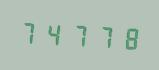eight: (114, 21, 137, 53)
four: (42, 18, 65, 49)
seven: (18, 16, 41, 47), (66, 19, 89, 50), (90, 20, 113, 51)
